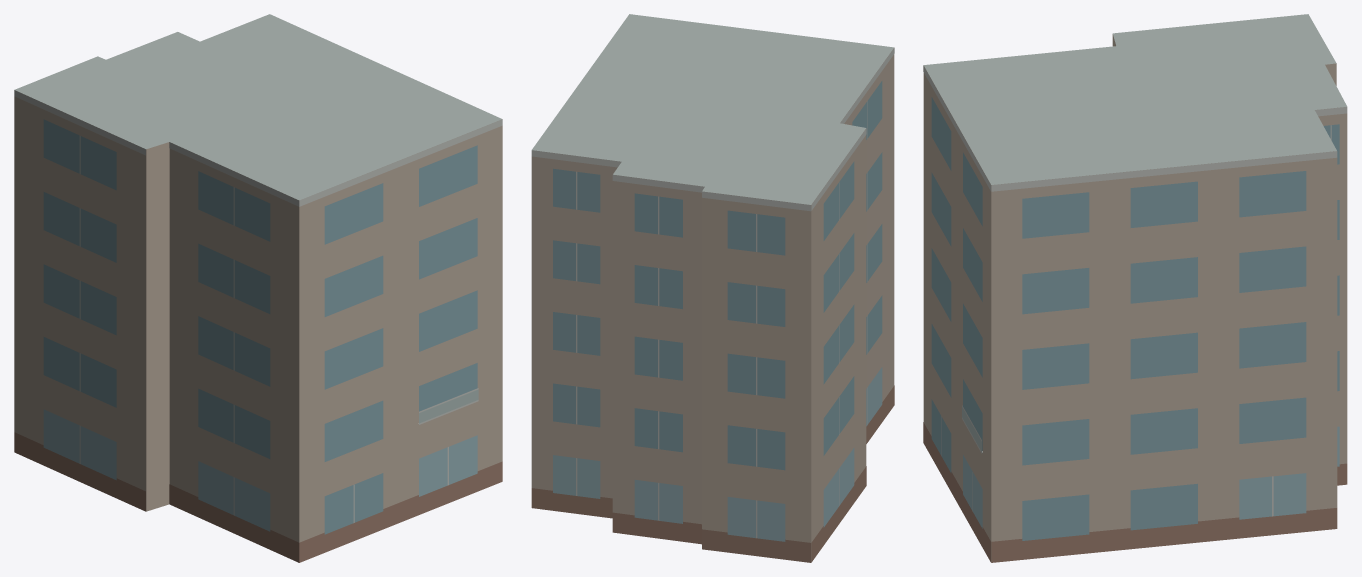
Rendered from survey-upis-32918859.glb.
3 renders of one model, left to right at view 1: azimuth 30°, elevation 25°; view 2: azimuth 150°, elevation 25°; view 3: azimuth 270°, elevation 25°, orthographic. The views are drawn at different scales.
Visible parts, largest first — view 1: survey-upis-32918859.tmp; view 2: survey-upis-32918859.tmp; view 3: survey-upis-32918859.tmp.
Part boxes in pixels (left/top/right/bottom): survey-upis-32918859.tmp: left=14, top=14, right=502, bottom=562; survey-upis-32918859.tmp: left=531, top=14, right=894, bottom=562; survey-upis-32918859.tmp: left=923, top=14, right=1347, bottom=562.
Size of the model in its own units: 13.41 by 13.8 by 14.05.
